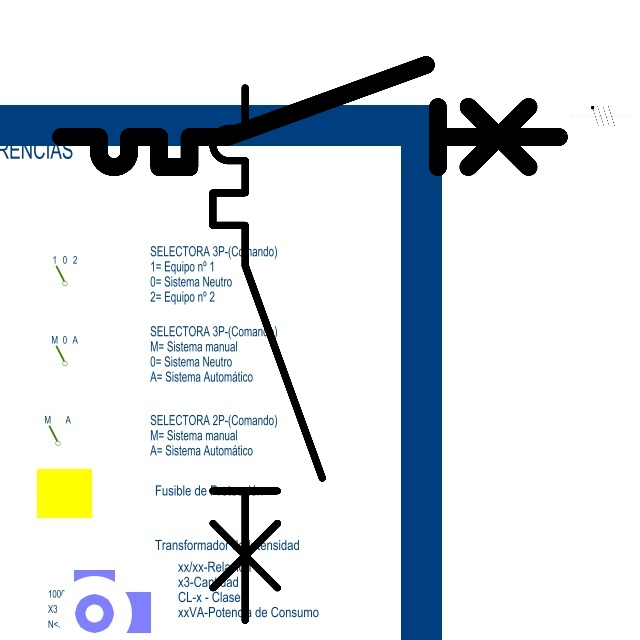interruptor_termomagnetico: (199, 74, 336, 634), (48, 52, 572, 180)
